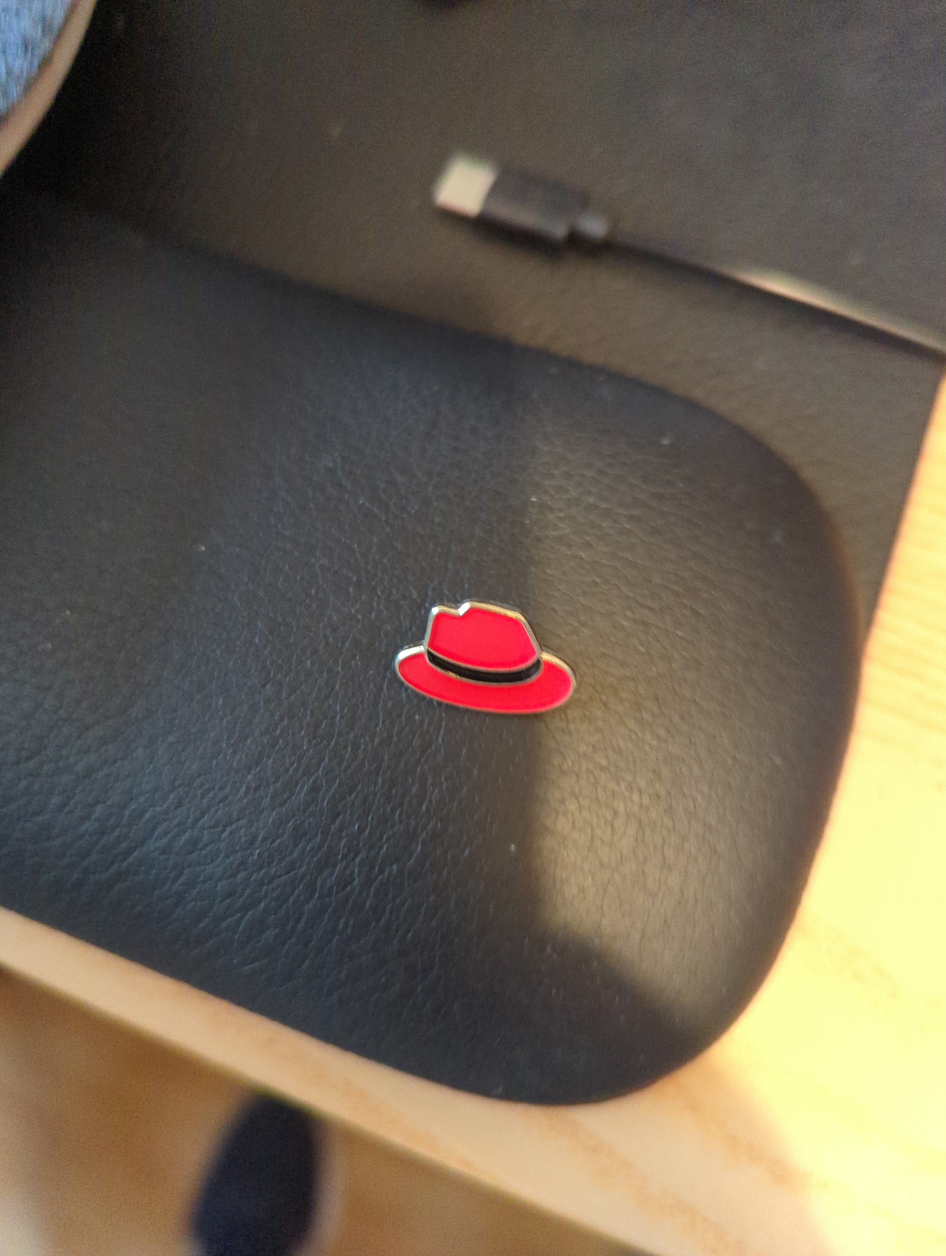Red-Hat: (325, 530, 702, 852)
